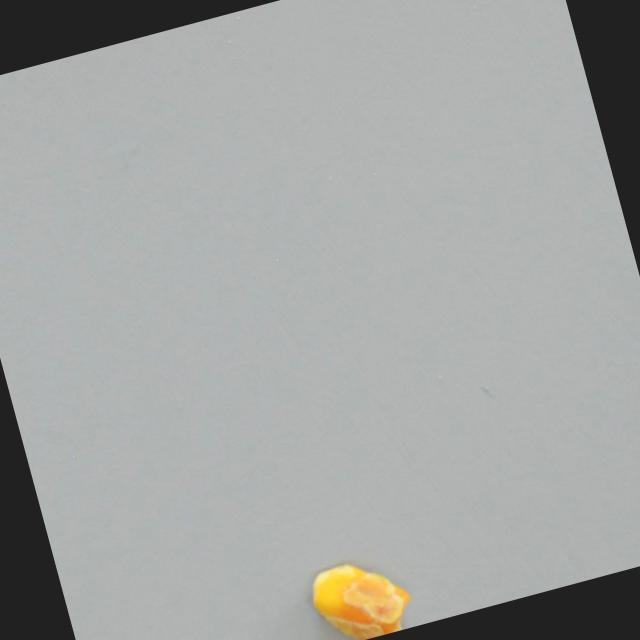dañado: (294, 543, 422, 640)
